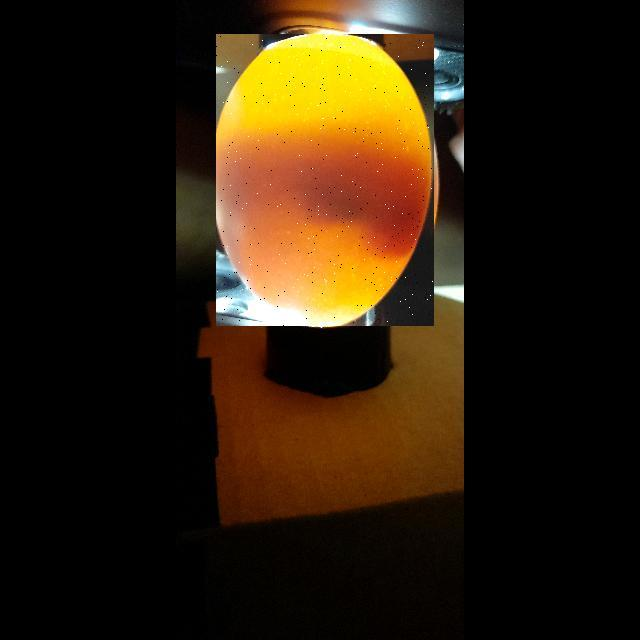Infertile: (216, 34, 434, 326)
